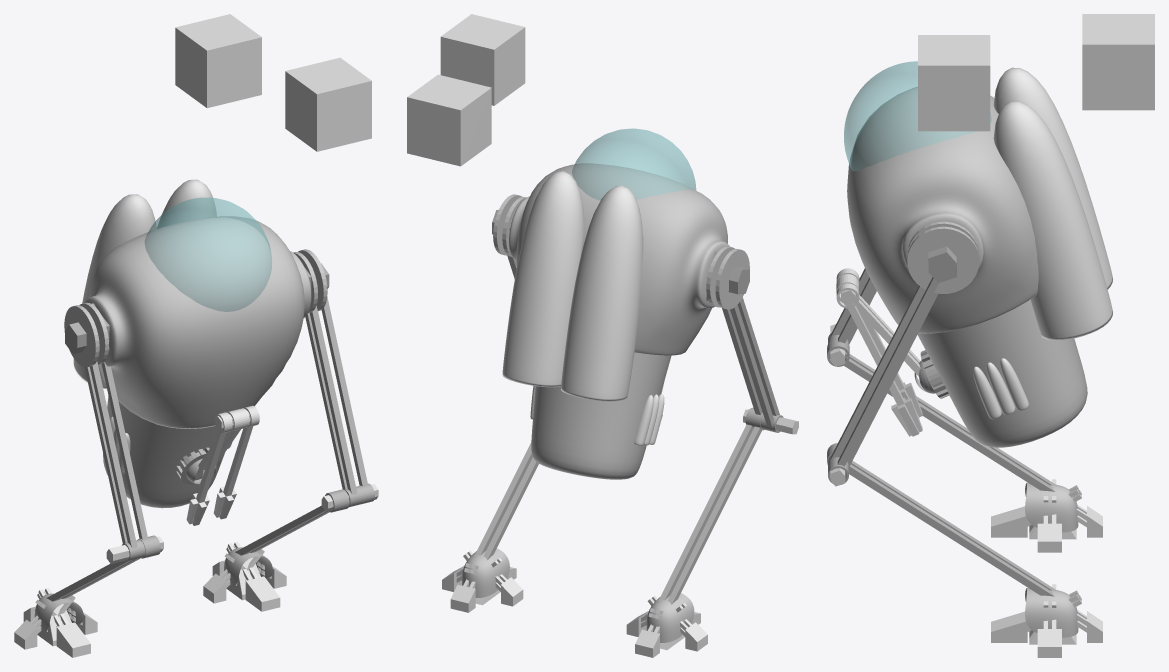
File: droid.dae
3 views of the same model, side by side, from view 1: azimuth 30°, elevation 25°; view 2: azimuth 150°, elevation 25°; view 3: azimuth 270°, elevation 25° (orthographic). The views are drawn at different scales.
Parts seen in each view (by area): view 1: Cube, Cube_011, Sphere, Cylinder_001, Cube_009, Cylinder_003, Cube_007, Cube_005, Cylinder, Cylinder_007, Cylinder_002, Cylinder_004 (+5 smaller); view 2: Cube, Cube_009, Cube_011, Sphere, Cylinder_004, Cylinder_003, Cylinder, Cube_005, Cube_007, Cylinder_002, Cube_006, Cube_004 (+2 smaller); view 3: Cube, Cube_009, Cube_011, Sphere, Cylinder_001, Cylinder_002, Cylinder, Cube_007, Cube_005, Cylinder_004, Cylinder_007, Cube_010 (+6 smaller).
Part boxes in pixels (bbox=[...]): Cube: bbox=[85, 216, 311, 508]; Cube_011: bbox=[175, 14, 371, 151]; Sphere: bbox=[145, 197, 271, 311]; Cylinder_001: bbox=[305, 297, 374, 507]; Cube_009: bbox=[73, 179, 216, 389]; Cylinder_003: bbox=[84, 361, 147, 561]; Cube_007: bbox=[14, 587, 97, 657]; Cube_005: bbox=[203, 541, 286, 611]; Cylinder: bbox=[64, 249, 327, 367]; Cylinder_007: bbox=[186, 405, 259, 525]; Cylinder_002: bbox=[235, 489, 349, 555]; Cylinder_004: bbox=[46, 535, 160, 601]; Cube: bbox=[509, 163, 730, 479]; Cube_009: bbox=[502, 171, 643, 401]; Cube_011: bbox=[407, 14, 525, 166]; Sphere: bbox=[572, 128, 696, 200]; Cylinder_004: bbox=[658, 407, 764, 604]; Cylinder_003: bbox=[722, 297, 783, 432]; Cylinder: bbox=[493, 194, 749, 309]; Cube_005: bbox=[442, 550, 523, 612]; Cube_007: bbox=[626, 596, 707, 657]; Cylinder_002: bbox=[474, 442, 538, 560]; Cube_006: bbox=[646, 593, 694, 642]; Cube_004: bbox=[462, 548, 509, 597]; Cube: bbox=[847, 87, 1087, 447]; Cube_009: bbox=[993, 67, 1112, 340]; Cube_011: bbox=[918, 14, 1154, 131]; Sphere: bbox=[844, 61, 991, 170]; Cylinder_001: bbox=[828, 277, 938, 484]; Cylinder_002: bbox=[827, 443, 1055, 596]; Cylinder: bbox=[907, 221, 979, 293]; Cube_007: bbox=[991, 479, 1102, 552]; Cube_005: bbox=[991, 584, 1102, 657]; Cylinder_004: bbox=[827, 338, 1055, 491]; Cylinder_007: bbox=[836, 268, 922, 436]; Cube_010: bbox=[973, 358, 1028, 419].
Bounding box in the file's own units: 10.8 × 9.04 × 18.59.
